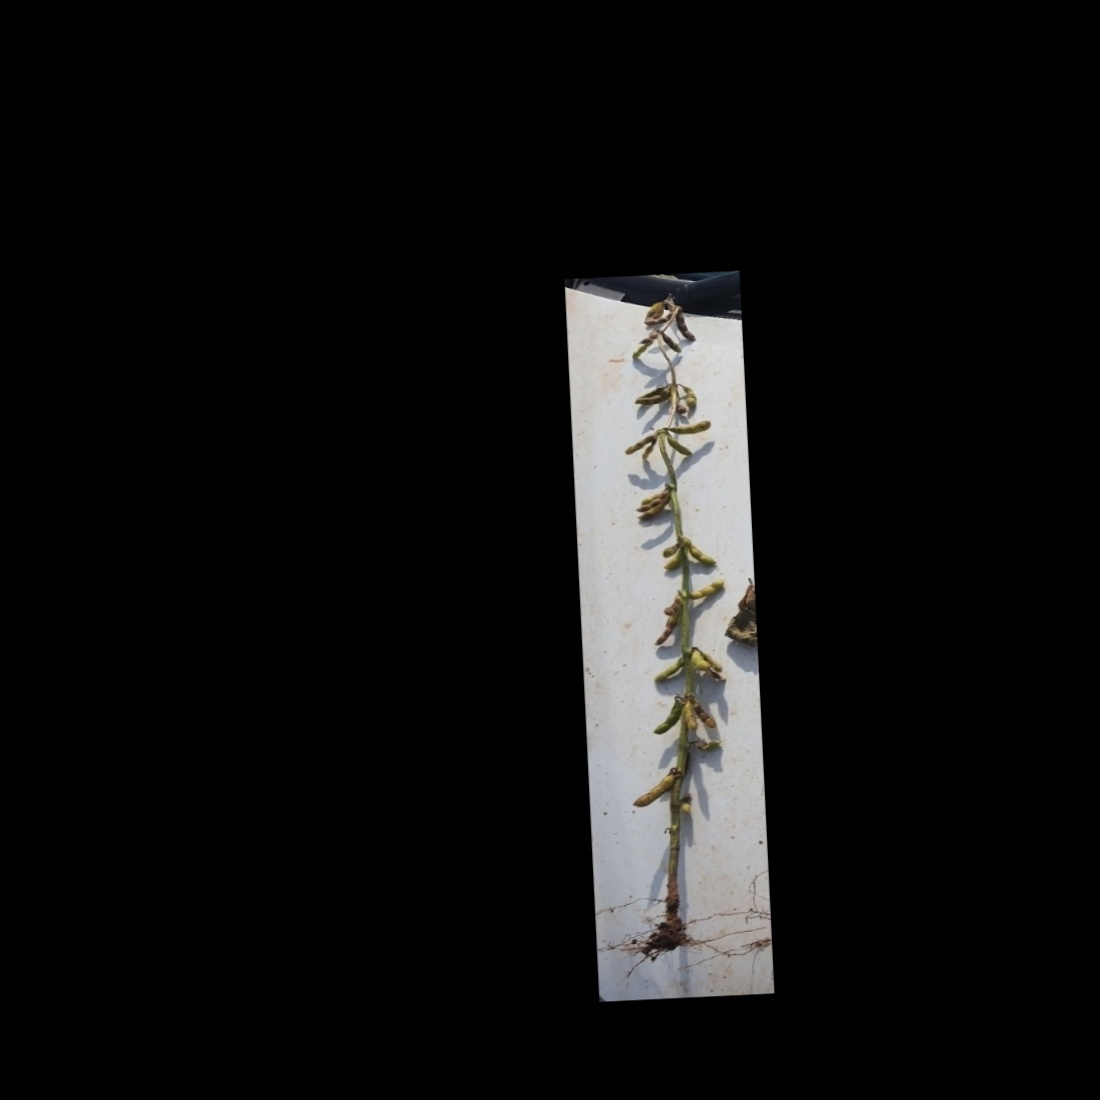pod: (629, 771, 676, 809), (650, 695, 685, 735), (651, 652, 689, 683), (652, 613, 682, 647), (666, 417, 715, 437), (685, 540, 718, 567), (687, 579, 726, 601), (691, 699, 718, 728), (674, 309, 696, 343), (622, 432, 656, 454), (667, 434, 695, 458), (682, 699, 696, 735), (641, 312, 677, 326), (662, 330, 682, 354), (679, 384, 698, 407), (639, 438, 658, 460)
soy: (600, 281, 746, 969)
